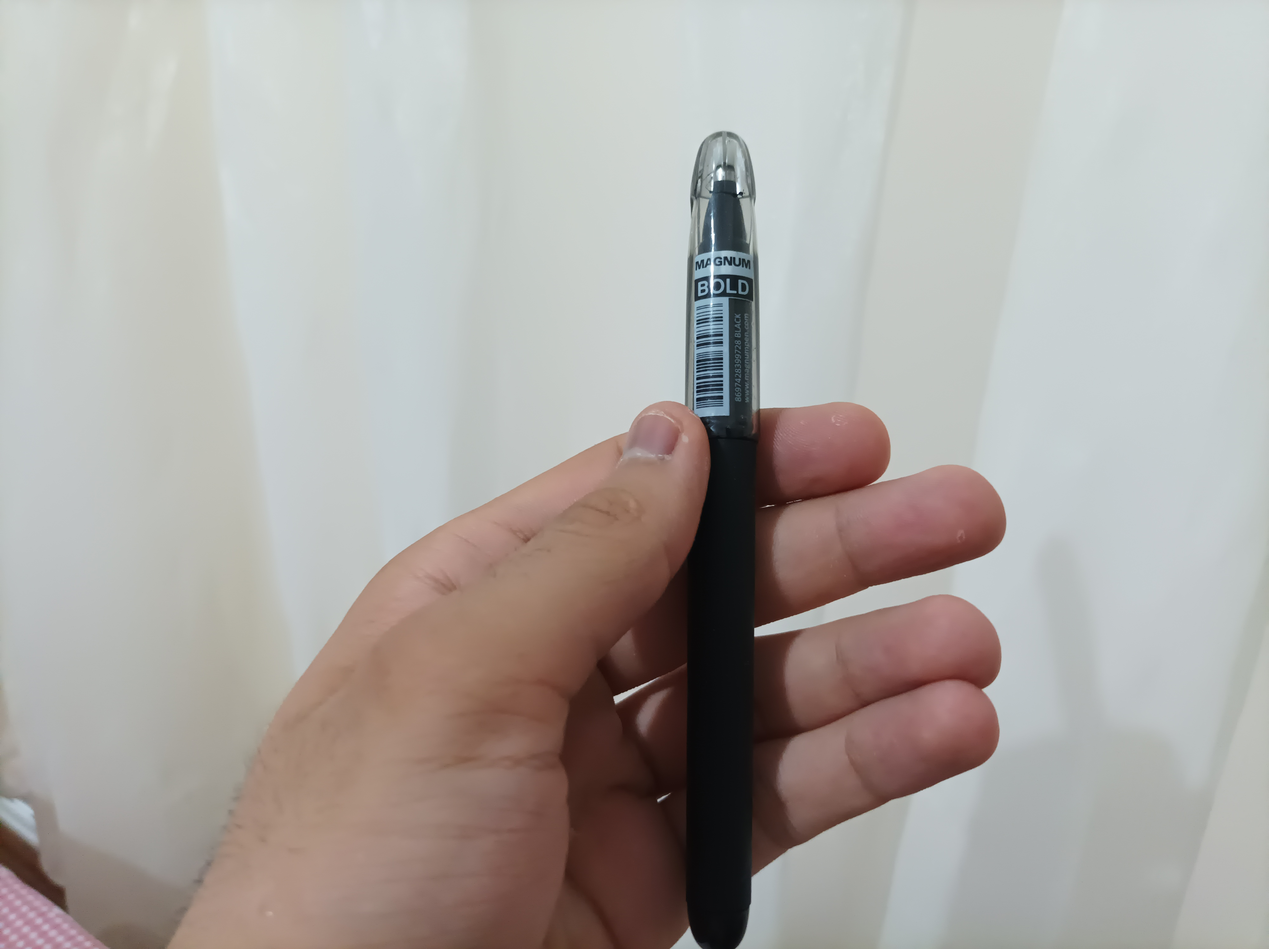plastic: (683, 133, 765, 939)
